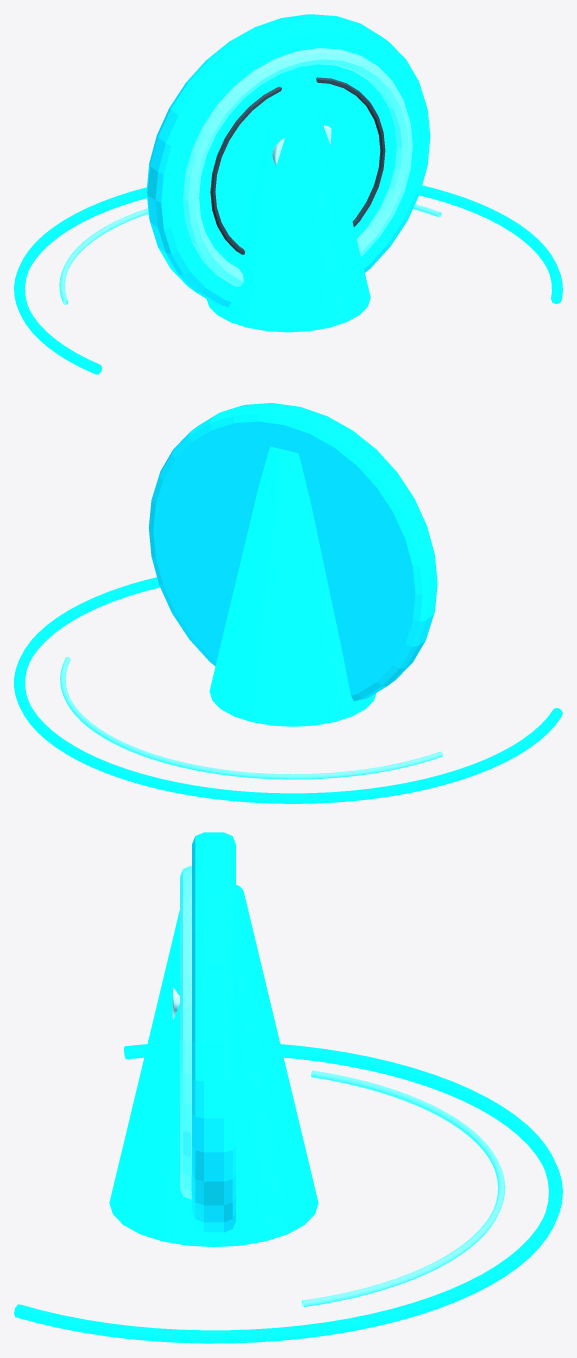
File: boost_coin_cyan_small_12.glb
The picture shows the model from 3 angles, top to bottom: view 1: azimuth 30°, elevation 25°; view 2: azimuth 150°, elevation 25°; view 3: azimuth 270°, elevation 25°; orthographic projection. The views are drawn at different scales.
Visible parts, largest first — view 1: Cyan boost 12 coin body, Cyan boost 12 vertical pickup beam, Cyan boost 12 outer raised rim, Cyan boost 12 floor arc A, Cyan boost 12 inset ring, Cyan boost 12 floor arc B; view 2: Cyan boost 12 coin body, Cyan boost 12 vertical pickup beam, Cyan boost 12 floor arc A, Cyan boost 12 floor arc B; view 3: Cyan boost 12 vertical pickup beam, Cyan boost 12 coin body, Cyan boost 12 floor arc A, Cyan boost 12 outer raised rim, Cyan boost 12 floor arc B.
Boxes of the visible parts, <box> form: Cyan boost 12 coin body: <box>146,14,430,307</box>; Cyan boost 12 vertical pickup beam: <box>207,65,370,332</box>; Cyan boost 12 outer raised rim: <box>183,48,412,286</box>; Cyan boost 12 floor arc A: <box>14,185,562,374</box>; Cyan boost 12 inset ring: <box>210,77,385,254</box>; Cyan boost 12 floor arc B: <box>59,204,441,304</box>; Cyan boost 12 coin body: <box>148,403,437,701</box>; Cyan boost 12 vertical pickup beam: <box>209,446,376,726</box>; Cyan boost 12 floor arc A: <box>14,577,562,803</box>; Cyan boost 12 floor arc B: <box>60,657,442,779</box>; Cyan boost 12 vertical pickup beam: <box>109,884,318,1247</box>; Cyan boost 12 coin body: <box>192,832,235,1232</box>; Cyan boost 12 floor arc A: <box>14,1044,562,1343</box>; Cyan boost 12 outer raised rim: <box>180,865,191,1199</box>; Cyan boost 12 floor arc B: <box>301,1070,505,1306</box>.
Size of the model in its own units: 1.49 by 0.86 by 1.17.
